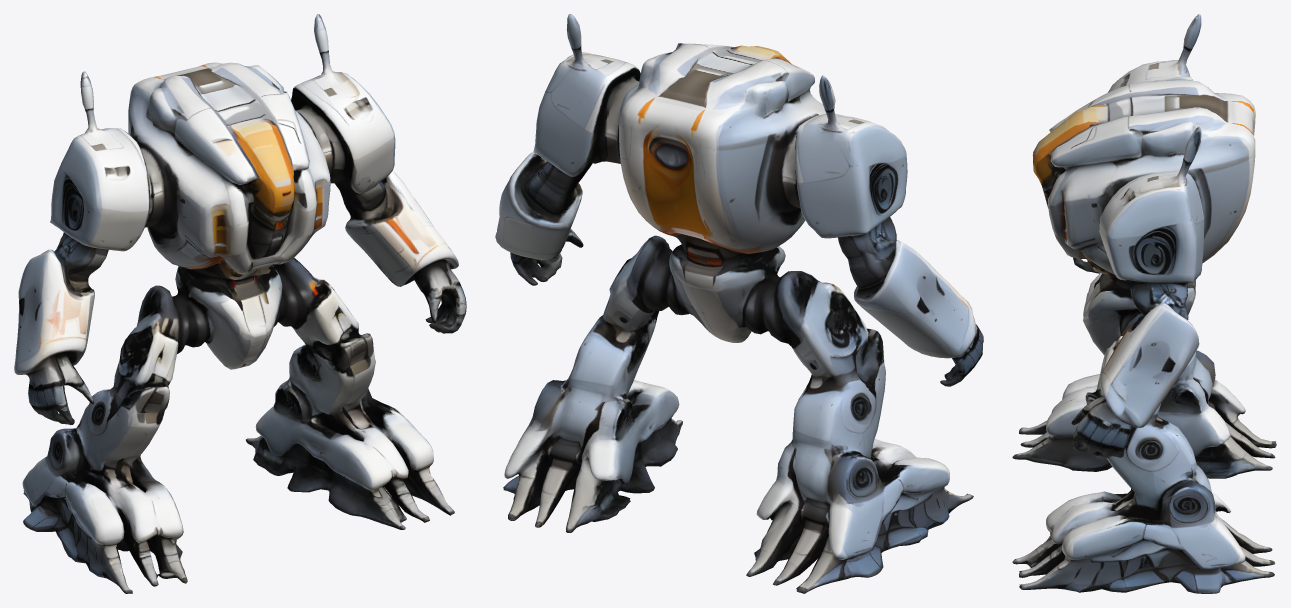
File: robot.glb
3 renders of one model, left to right at view 1: azimuth 30°, elevation 25°; view 2: azimuth 150°, elevation 25°; view 3: azimuth 270°, elevation 25°, orthographic. The views are drawn at different scales.
Parts seen in each view (by area): view 1: model; view 2: model; view 3: model.
Boxes of the visible parts, x1,y1,x2,y2 form: model: (14,14,466,593); model: (495,14,983,593); model: (1012,14,1276,593).
Bounding box in the file's own units: 1.86 × 1.83 × 0.9882.
Materials: 1 (1 with a texture image).
